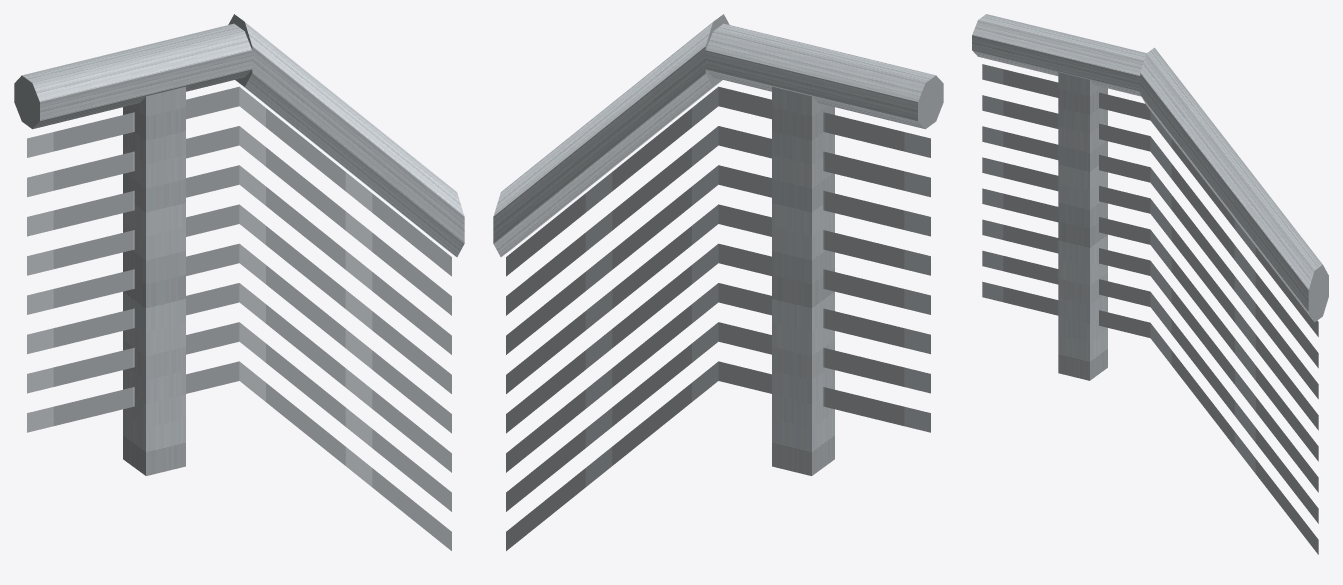
File: top_neg.obj
3 renders of one model, left to right at view 1: azimuth 30°, elevation 25°; view 2: azimuth 150°, elevation 25°; view 3: azimuth 330°, elevation 25°, orthographic. The views are drawn at different scales.
Parts seen in each view (by area): view 1: railing_cable_stainless_top_neg; view 2: railing_cable_stainless_top_neg; view 3: railing_cable_stainless_top_neg.
Part boxes in pixels (x1,y1,x2,y2): railing_cable_stainless_top_neg: (14, 14, 464, 550); railing_cable_stainless_top_neg: (493, 14, 943, 550); railing_cable_stainless_top_neg: (972, 14, 1328, 554).
Bounding box in the file's own units: 1 × 1.36 × 0.1039.
